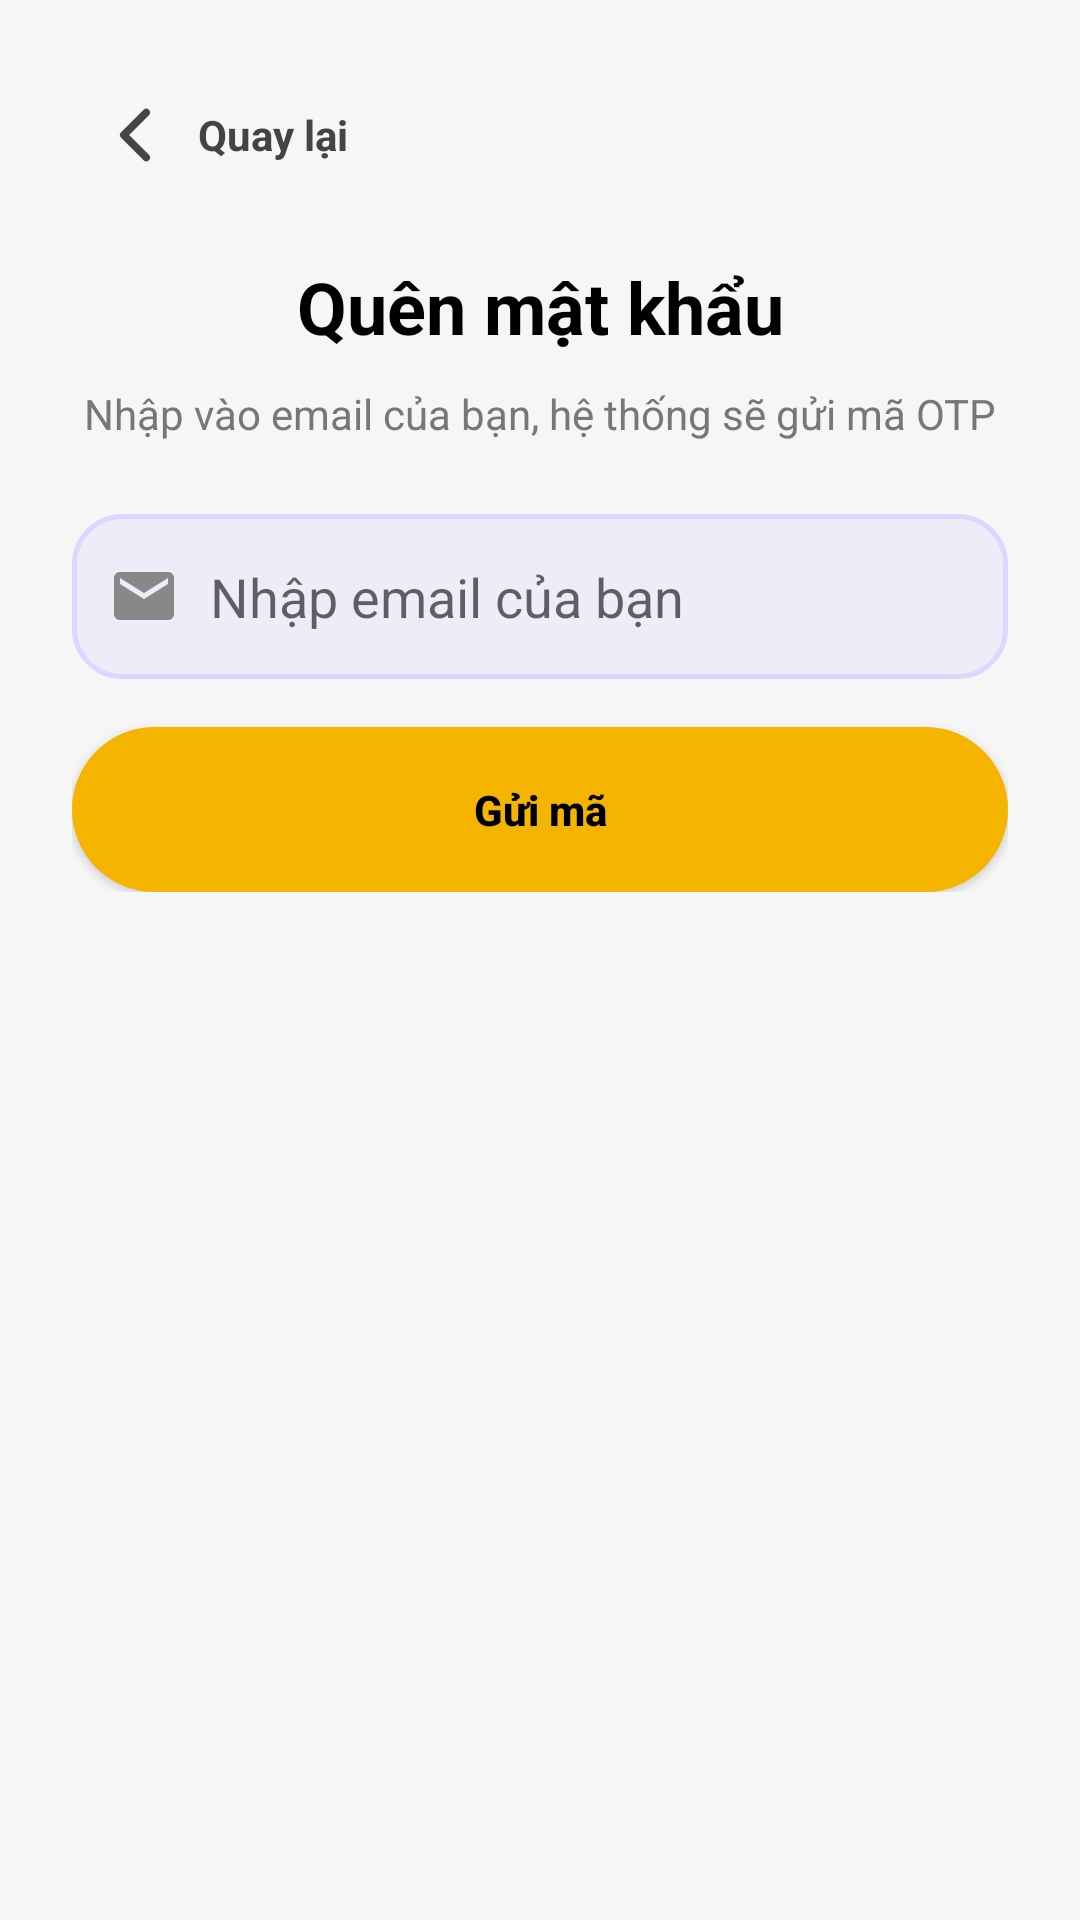

Named icons in this screenshot (1080px×1920px) and their bounding boxes, (x1, y1, x2, y2):
back: (120, 108, 151, 162)
